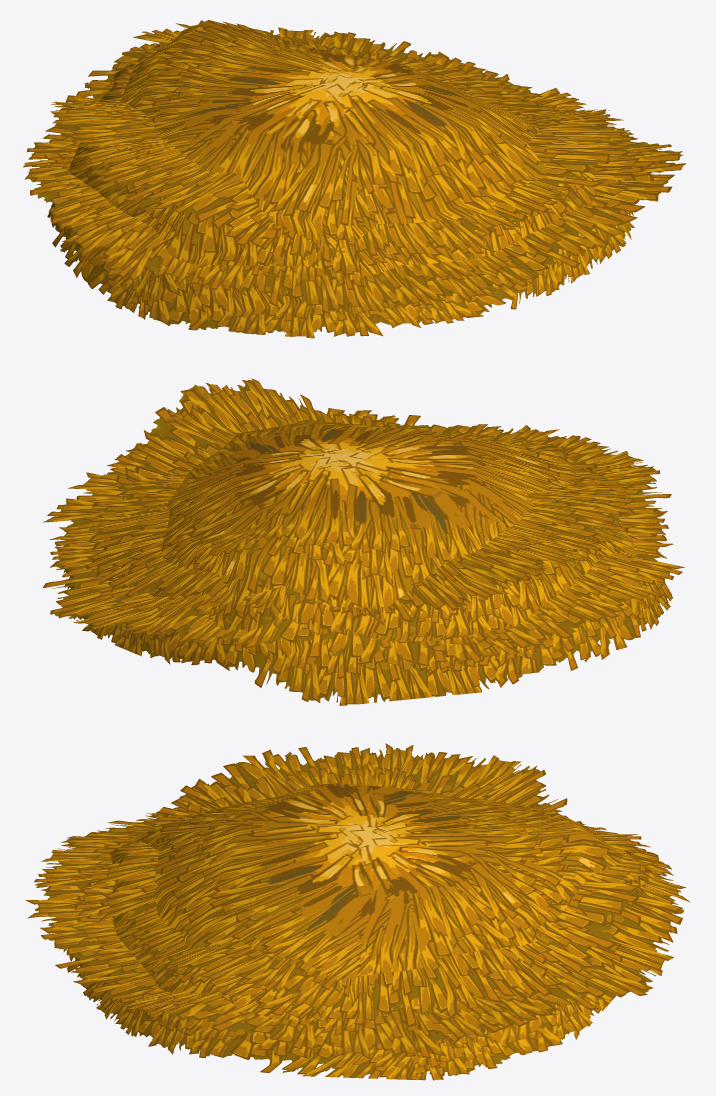
The model's file is SM_PROP_hay_06.FBX.
3 renders of one model, top to bottom at view 1: azimuth 30°, elevation 25°; view 2: azimuth 150°, elevation 25°; view 3: azimuth 270°, elevation 25°, orthographic. The views are drawn at different scales.
Visible parts, largest first — view 1: SM_PROP_hay_06; view 2: SM_PROP_hay_06; view 3: SM_PROP_hay_06.
Part boxes in pixels (x1,y1,x2,y2): SM_PROP_hay_06: (23,20,686,338); SM_PROP_hay_06: (42,378,684,705); SM_PROP_hay_06: (25,743,690,1080).
Bounding box in the file's own units: 147 × 151 × 33.27.
